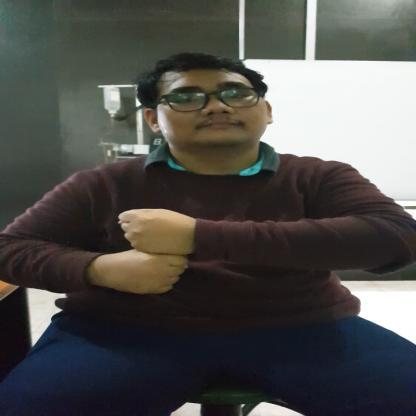G: (94, 206, 202, 298)
